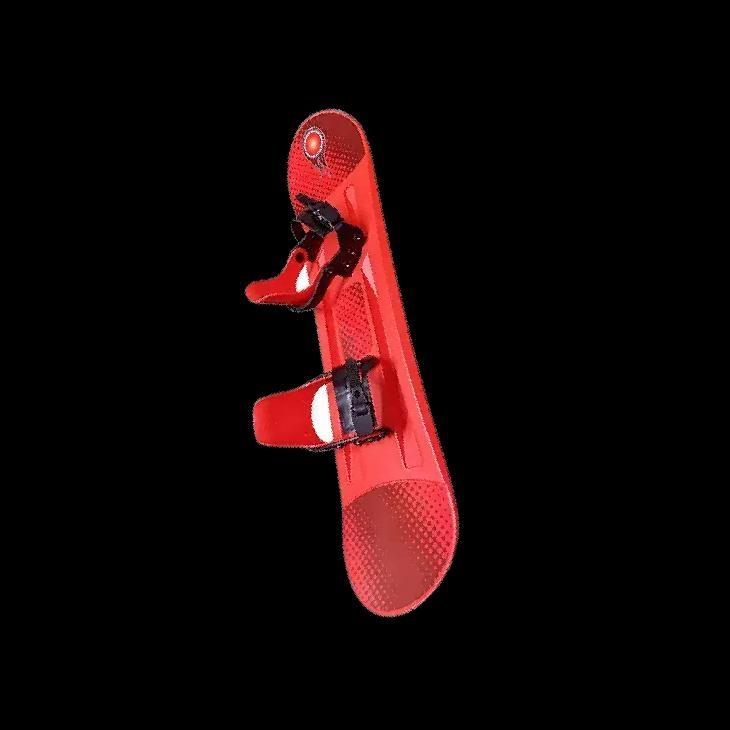Snowboard: (244, 107, 459, 617)
